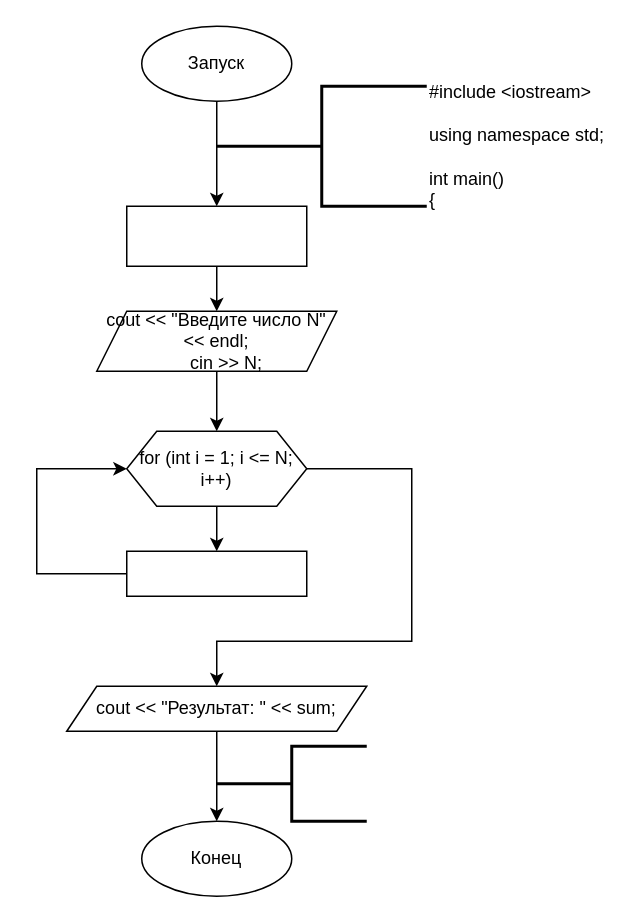
The diagram is 632 pixels wide and 923 high, and some of its shapes have lost their labels. Here are the shapes that lost their labels. From the top down, the box of each, then its label:
(125, 205, 307, 266): int N, sum; sum = 0;
(125, 550, 307, 596): sum = sum + i;
(214, 744, 368, 822): return 0; }
